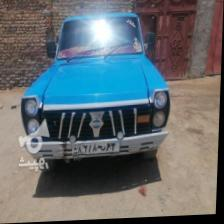plate: (74, 141, 123, 156)
